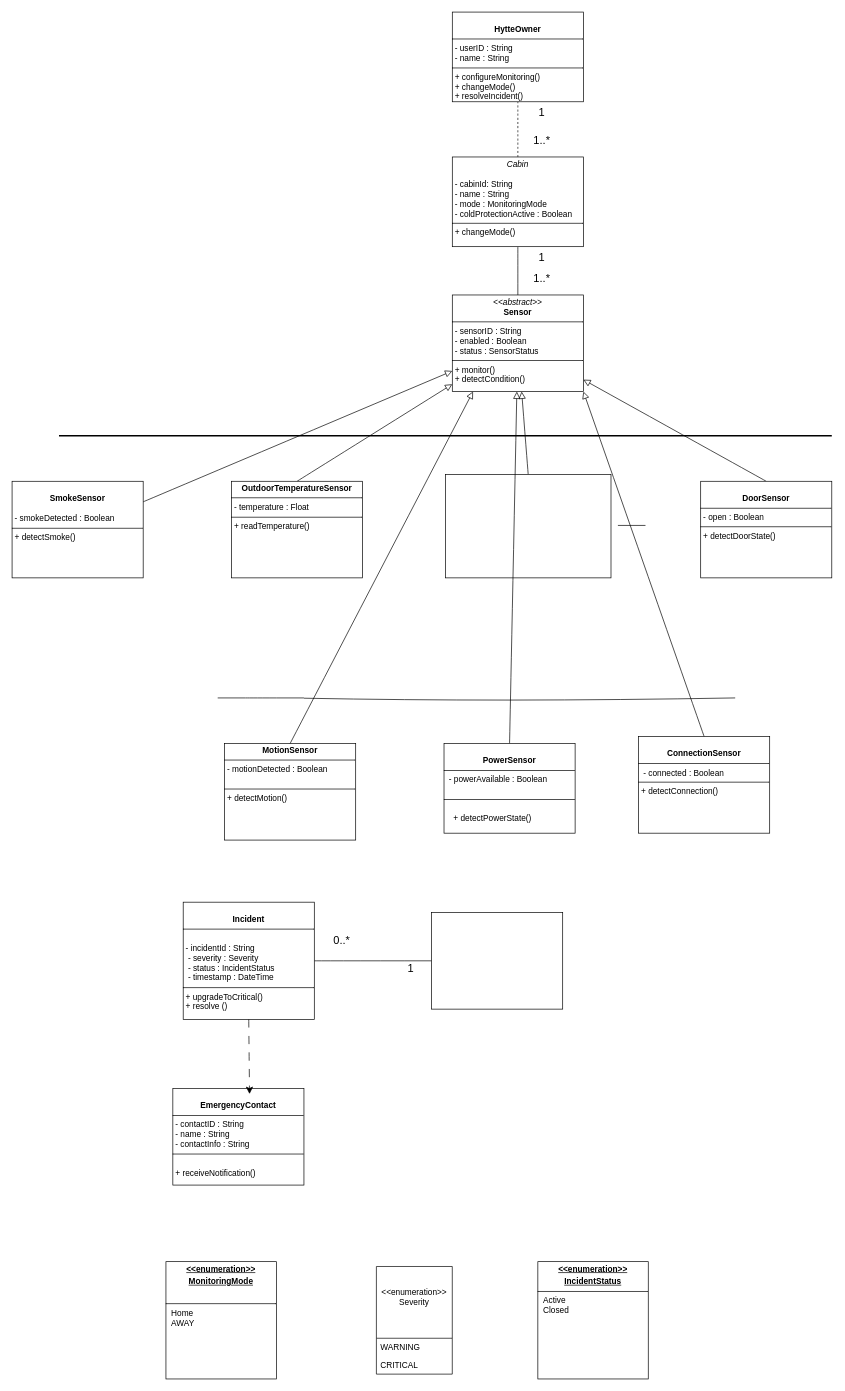
Image size: 845x1391. Some labels were removed from this diagram. Each missing label, with the centre of its shape:
IncidentHistory + registerIncident() + updateIncident() + viewHistory(): (497,960)
WaterLeakSensor - leakDetected : Boolean + detectLeak(): (528,526)
